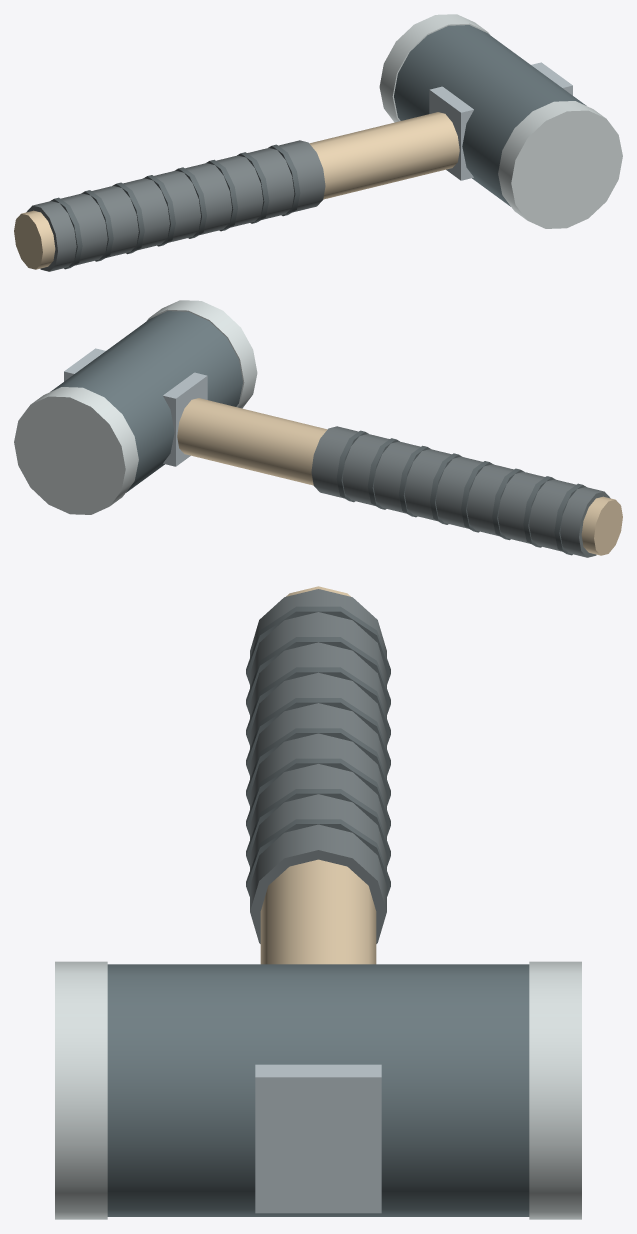
File: mallet.glb
The picture shows the model from 3 angles, top to bottom: view 1: azimuth 30°, elevation 25°; view 2: azimuth 150°, elevation 25°; view 3: azimuth 270°, elevation 25°; orthographic projection. The views are drawn at different scales.
Parts seen in each view (by area): view 1: Plasthammare; view 2: Plasthammare; view 3: Plasthammare.
Part boxes in pixels (x1,y1,x2,y2): Plasthammare: [14, 14, 622, 271]; Plasthammare: [14, 300, 622, 557]; Plasthammare: [55, 586, 581, 1219].
Size of the model in its own units: 0.255 by 0.0539 by 0.11.
